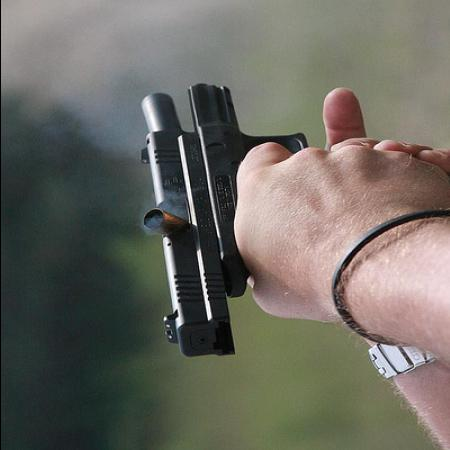Pistol: (138, 82, 312, 364)
